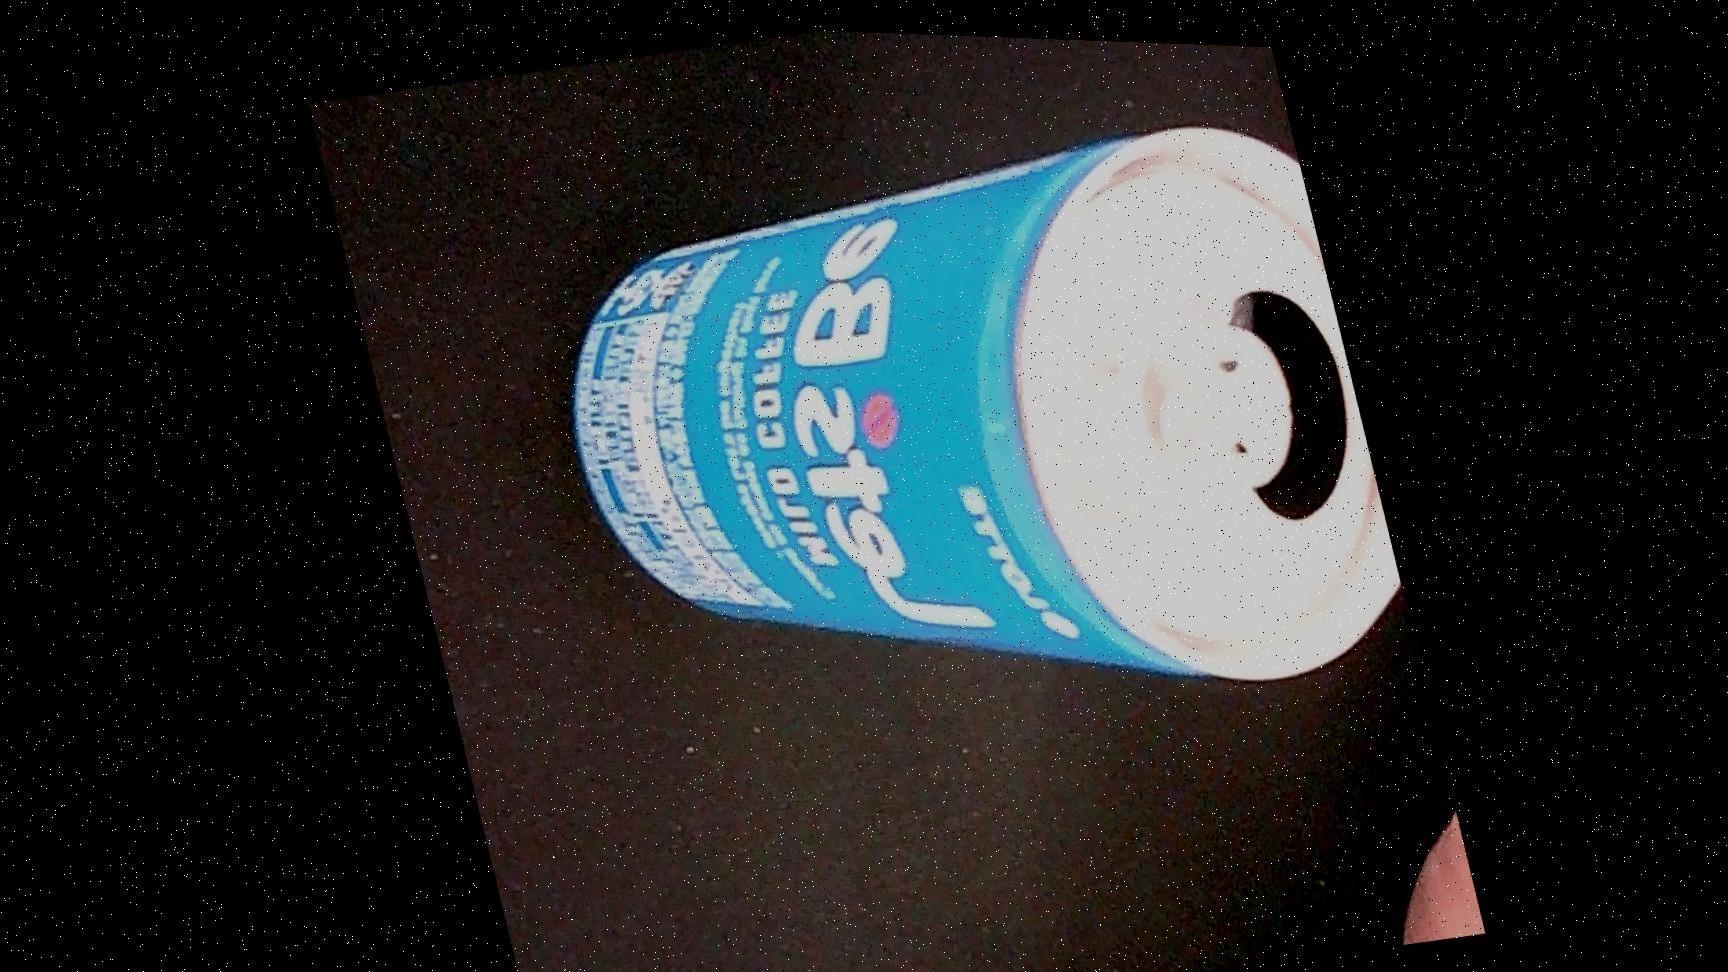letsbe: (508, 77, 1418, 788)
